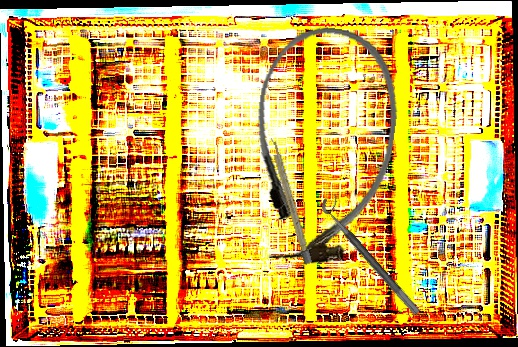Cannula: (238, 19, 408, 273)
Fixation Ring: (317, 191, 430, 316)
Scalpel Handle: (268, 136, 313, 266)
